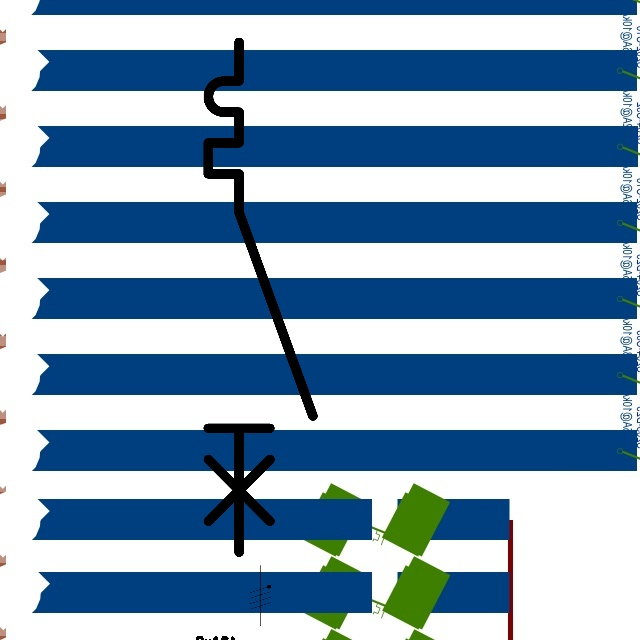interruptor_termomagnetico: (195, 29, 326, 565)
